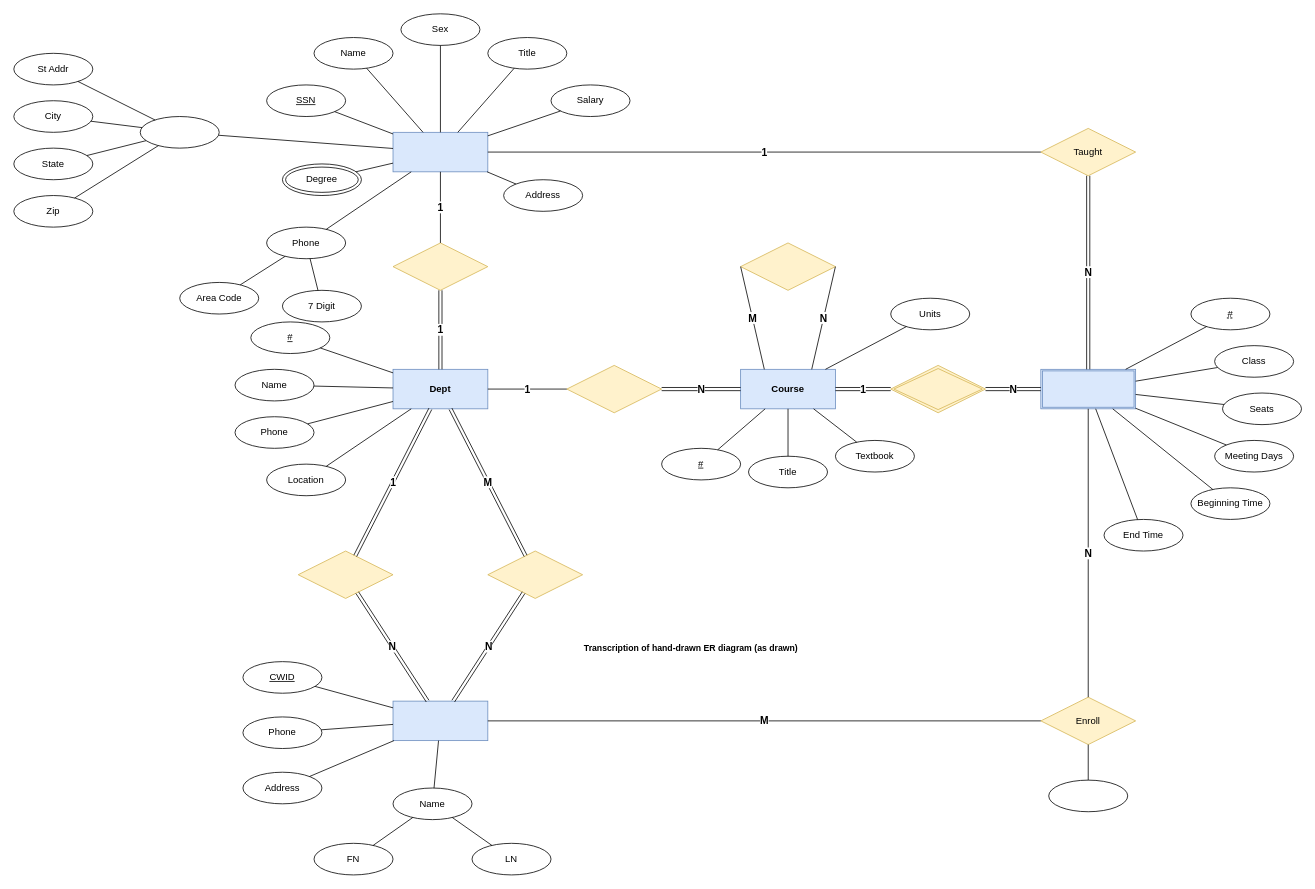
This 1315x889 diagram has some shape labels left out. The centre of each missing label's shape, as x and y in pixels:
"Addr" belongs at point (179, 132).
"Chairperson" belongs at point (440, 266).
"Grade" belongs at point (1088, 795).
"Has" belongs at point (938, 389).
"Major" belongs at point (345, 574).
"Minor" belongs at point (535, 574).
"Offer" belongs at point (614, 389).
"Prereq" belongs at point (787, 266).
"Prof" belongs at point (440, 152).
"Section" belongs at point (1088, 389).
"Student" belongs at point (440, 720).
